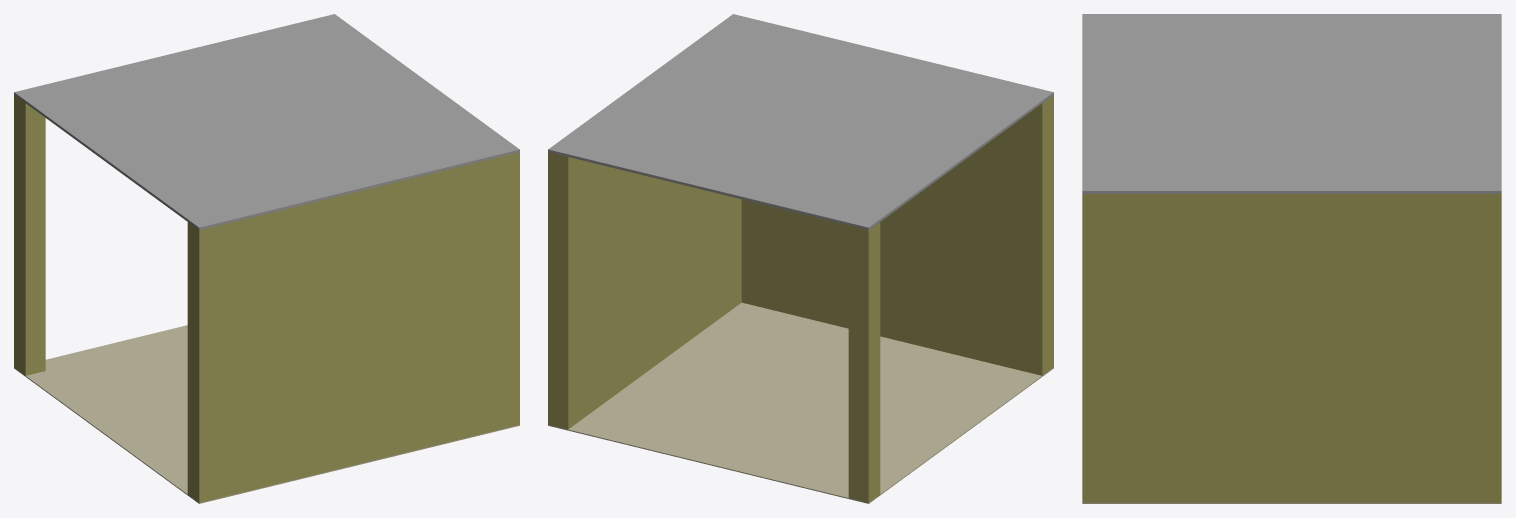
The model's file is tile4.gltf.
3 views of the same model, side by side, from view 1: azimuth 30°, elevation 25°; view 2: azimuth 150°, elevation 25°; view 3: azimuth 270°, elevation 25° (orthographic). The views are drawn at different scales.
Visible parts, largest first — view 1: cube (×4); view 2: cube (×5); view 3: cube (×4).
Part boxes in pixels (box(x1,y1,x2,y2)): cube (×4): box(14, 14, 519, 503); cube (×5): box(548, 14, 1053, 503); cube (×4): box(1082, 14, 1501, 503).
Bounding box in the file's own units: 1 × 0.8234 × 1.
Materials: 1 (1 with a texture image).
